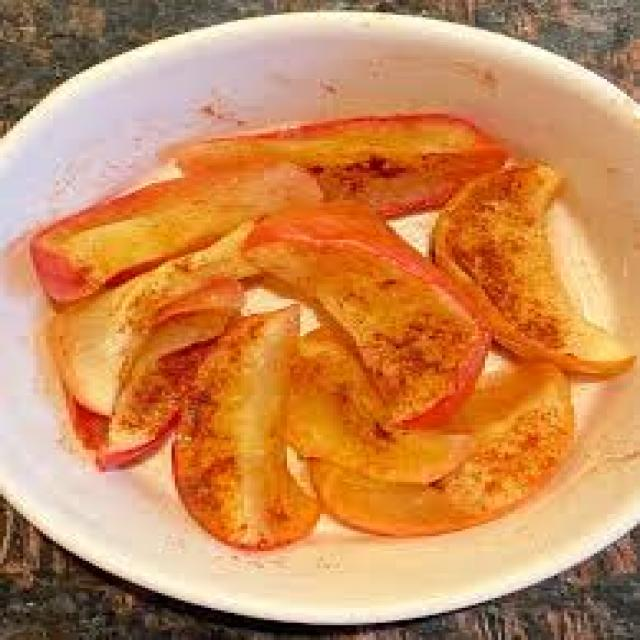Apple: (241, 207, 486, 429), (436, 163, 633, 372), (172, 309, 322, 546)
